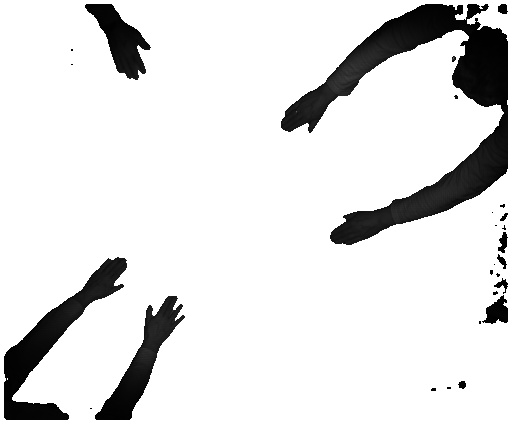hand: (143, 296, 191, 347), (109, 26, 151, 79), (328, 209, 385, 247), (280, 91, 329, 135), (83, 256, 127, 304)
